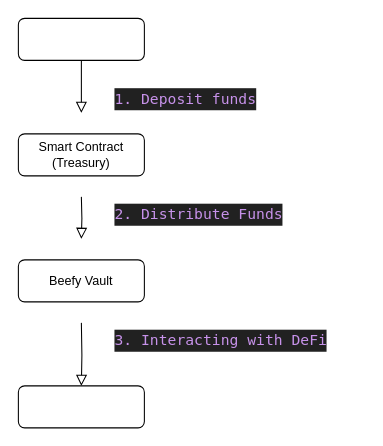
This 383x446 diagram has some shape labels left out. Each missing label, with the centre of its shape:
DeFi Protocols: the point at 80,406
TREASURY: the point at 80,38
